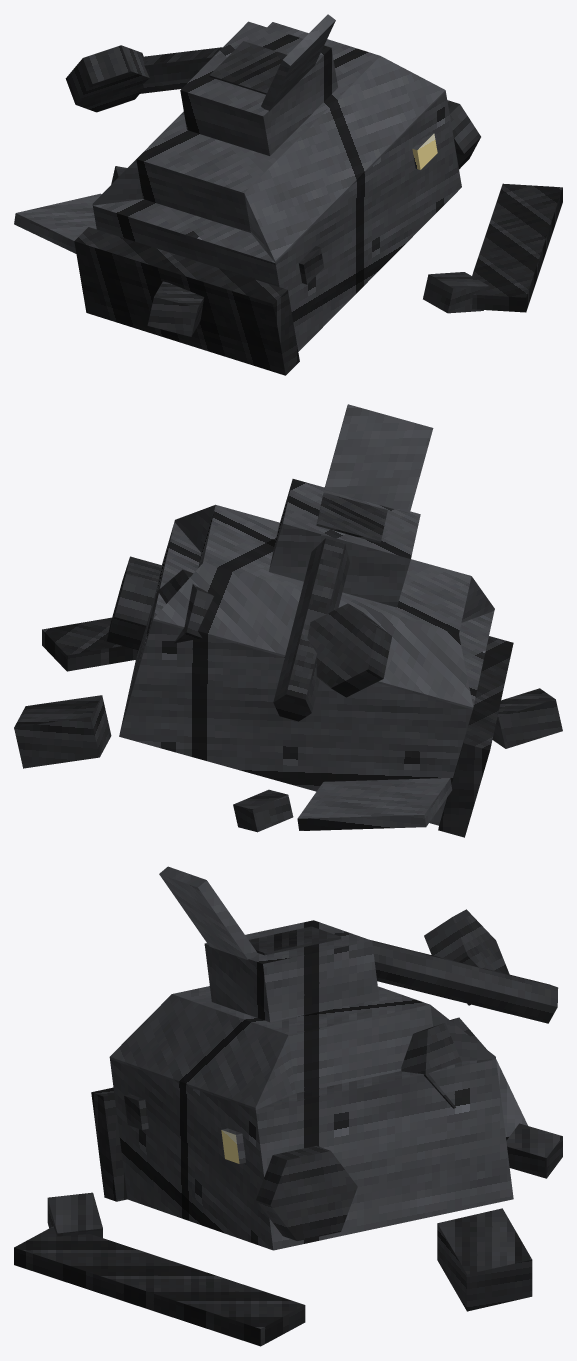
The model's file is cache_derelict.glb.
3 renders of one model, top to bottom at view 1: azimuth 30°, elevation 25°; view 2: azimuth 150°, elevation 25°; view 3: azimuth 270°, elevation 25°, orthographic. The views are drawn at different scales.
Parts seen in each view (by area): view 1: deck, hull, track, turret, thrown_track, wheel.002, plate, hatchway, hatch, lump.001, gun, lump.002 (+3 smaller); view 2: hull, deck, turret, hatch, plate, gun, track, lump, wheel.002, thrown_track, wheel, lump.001 (+3 smaller); view 3: hull, deck, thrown_track, turret, lump, gun, wheel, hatch, wheel.002, track, wheel.001, lump.003 (+5 smaller).
Boxes of the visible parts, x1,y1,x2,y2 form: deck: [92, 22, 445, 262]; hull: [93, 92, 461, 351]; track: [74, 227, 299, 375]; turret: [180, 21, 337, 155]; thrown_track: [472, 183, 562, 312]; wheel.002: [65, 45, 149, 112]; plate: [14, 193, 101, 253]; hatchway: [209, 41, 286, 94]; hatch: [261, 14, 335, 111]; lump.001: [147, 281, 204, 336]; gun: [140, 47, 222, 93]; lump.002: [423, 272, 489, 313]; hull: [119, 522, 494, 825]; deck: [153, 504, 494, 709]; turret: [269, 479, 420, 607]; hatch: [324, 404, 433, 513]; plate: [297, 778, 452, 830]; gun: [273, 538, 349, 721]; track: [438, 636, 513, 837]; lump: [14, 695, 111, 768]; wheel.002: [307, 603, 392, 697]; thrown_track: [42, 617, 137, 671]; wheel: [106, 556, 161, 650]; lump.001: [492, 688, 562, 748]; hull: [110, 1059, 513, 1250]; deck: [109, 986, 495, 1109]; thrown_track: [14, 1226, 305, 1346]; turret: [204, 920, 379, 1022]; lump: [437, 1208, 532, 1311]; gun: [371, 940, 558, 1023]; wheel: [256, 1146, 357, 1240]; hatch: [159, 866, 257, 959]; wheel.002: [424, 909, 509, 1005]; track: [91, 1087, 127, 1201]; wheel.001: [401, 1017, 486, 1108]; lump.003: [506, 1123, 562, 1178].
Bounding box in the file's own units: 51.24 × 33.61 × 45.58.
6 materials, 6 textured.
